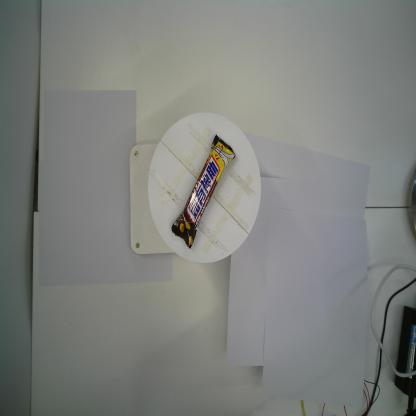Chocolate: (170, 134, 236, 250)
